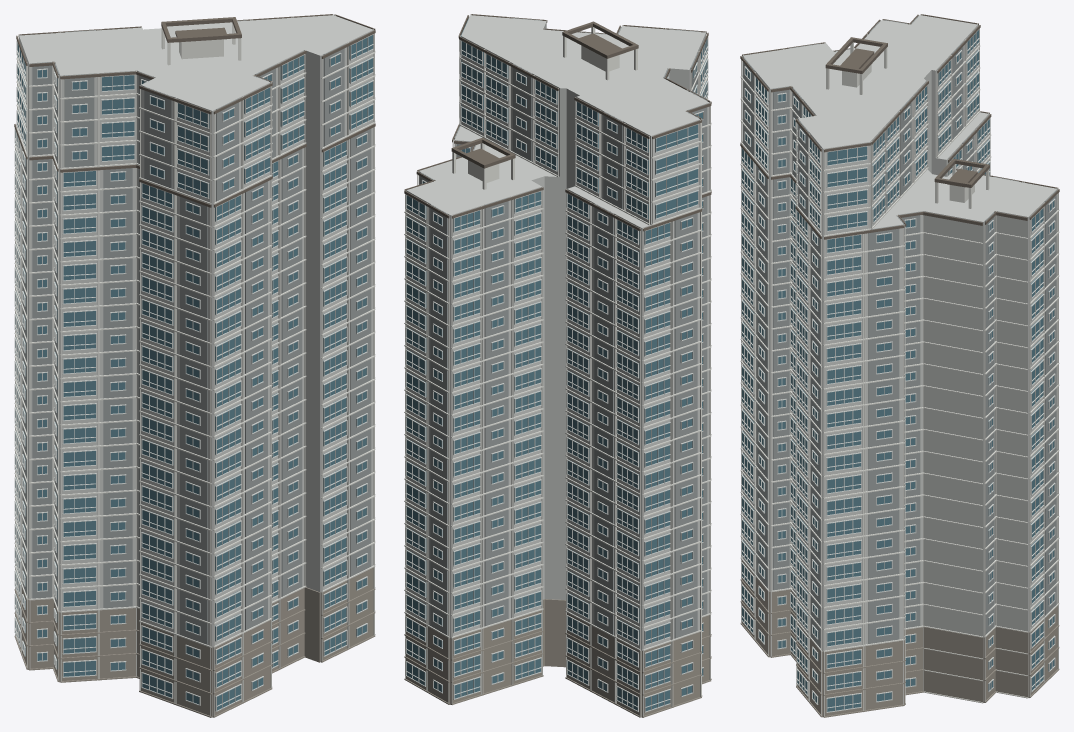
The model's file is bespoke-banpo-xi-143.glb.
The picture shows the model from 3 angles, left to right: view 1: azimuth 30°, elevation 25°; view 2: azimuth 150°, elevation 25°; view 3: azimuth 270°, elevation 25°; orthographic projection. The views are drawn at different scales.
Visible parts, largest first — view 1: editable_BX143_pale_silver_limestone, editable_BX143_grey_service_core, editable_BX143_blue_grey_broad_glazing, editable_BX143_white_window_frames, editable_BX143_ivory_course_bands, editable_BX143_warm_ground_stone, editable_BX143_dark_coping; view 2: editable_BX143_pale_silver_limestone, editable_BX143_blue_grey_broad_glazing, editable_BX143_white_window_frames, editable_BX143_ivory_course_bands, editable_BX143_grey_service_core, editable_BX143_warm_ground_stone, editable_BX143_dark_coping; view 3: editable_BX143_pale_silver_limestone, editable_BX143_grey_service_core, editable_BX143_white_window_frames, editable_BX143_blue_grey_broad_glazing, editable_BX143_ivory_course_bands, editable_BX143_warm_ground_stone, editable_BX143_dark_coping.
Boxes of the visible parts, box(x1,y1,x2,y2) form: editable_BX143_pale_silver_limestone: box(19, 15, 373, 716); editable_BX143_grey_service_core: box(22, 20, 371, 644); editable_BX143_blue_grey_broad_glazing: box(15, 35, 372, 710); editable_BX143_white_window_frames: box(14, 34, 373, 711); editable_BX143_ivory_course_bands: box(14, 14, 375, 717); editable_BX143_warm_ground_stone: box(14, 567, 375, 717); editable_BX143_dark_coping: box(14, 14, 375, 207); editable_BX143_pale_silver_limestone: box(406, 15, 709, 716); editable_BX143_blue_grey_broad_glazing: box(406, 19, 707, 711); editable_BX143_white_window_frames: box(405, 29, 708, 712); editable_BX143_ivory_course_bands: box(404, 14, 711, 717); editable_BX143_grey_service_core: box(420, 18, 707, 638); editable_BX143_warm_ground_stone: box(404, 599, 711, 717); editable_BX143_dark_coping: box(404, 14, 711, 231); editable_BX143_pale_silver_limestone: box(742, 15, 1057, 716); editable_BX143_grey_service_core: box(743, 16, 1056, 648); editable_BX143_white_window_frames: box(741, 28, 1055, 712); editable_BX143_blue_grey_broad_glazing: box(742, 30, 1054, 711); editable_BX143_ivory_course_bands: box(740, 14, 1059, 717); editable_BX143_warm_ground_stone: box(740, 560, 1059, 717); editable_BX143_dark_coping: box(740, 14, 1059, 239).
Size of the model in its own units: 35.86 by 72.9 by 35.61.
